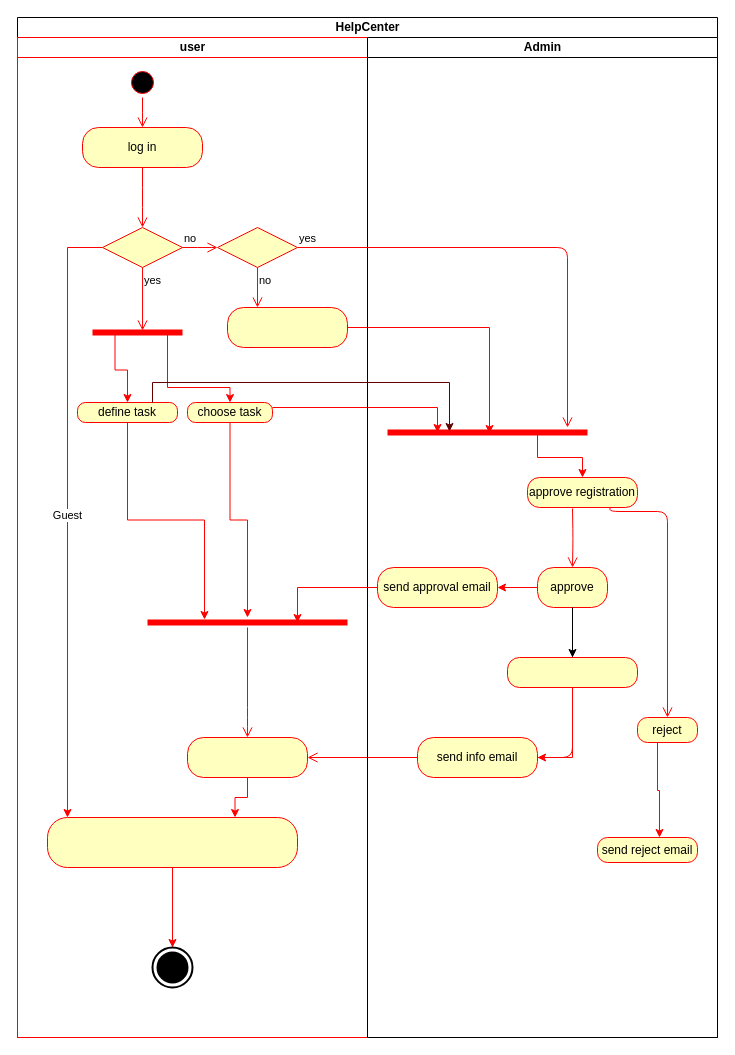
This 735x1055 diagram has some shape labels left out. The shapes that lost their labels are listed below. From the top down, each one's centre as x and y in pixels, then its label:
point 142,247: member
point 257,247: Adimin
point 287,327: register
point 572,672: Match N & V
point 247,757: received info of N/V
point 172,842: view website
